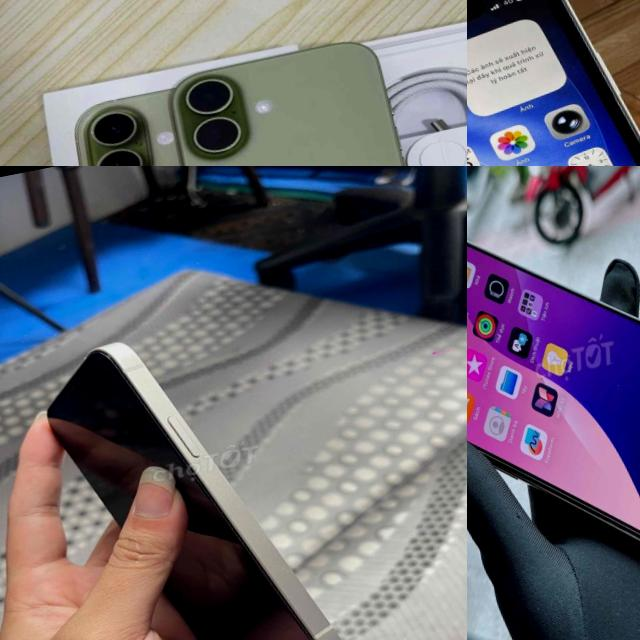gen_11: (467, 0, 640, 166)
gen_12_13: (15, 301, 354, 640)
gen_16: (467, 177, 640, 628)
gen_17: (166, 28, 465, 166)
